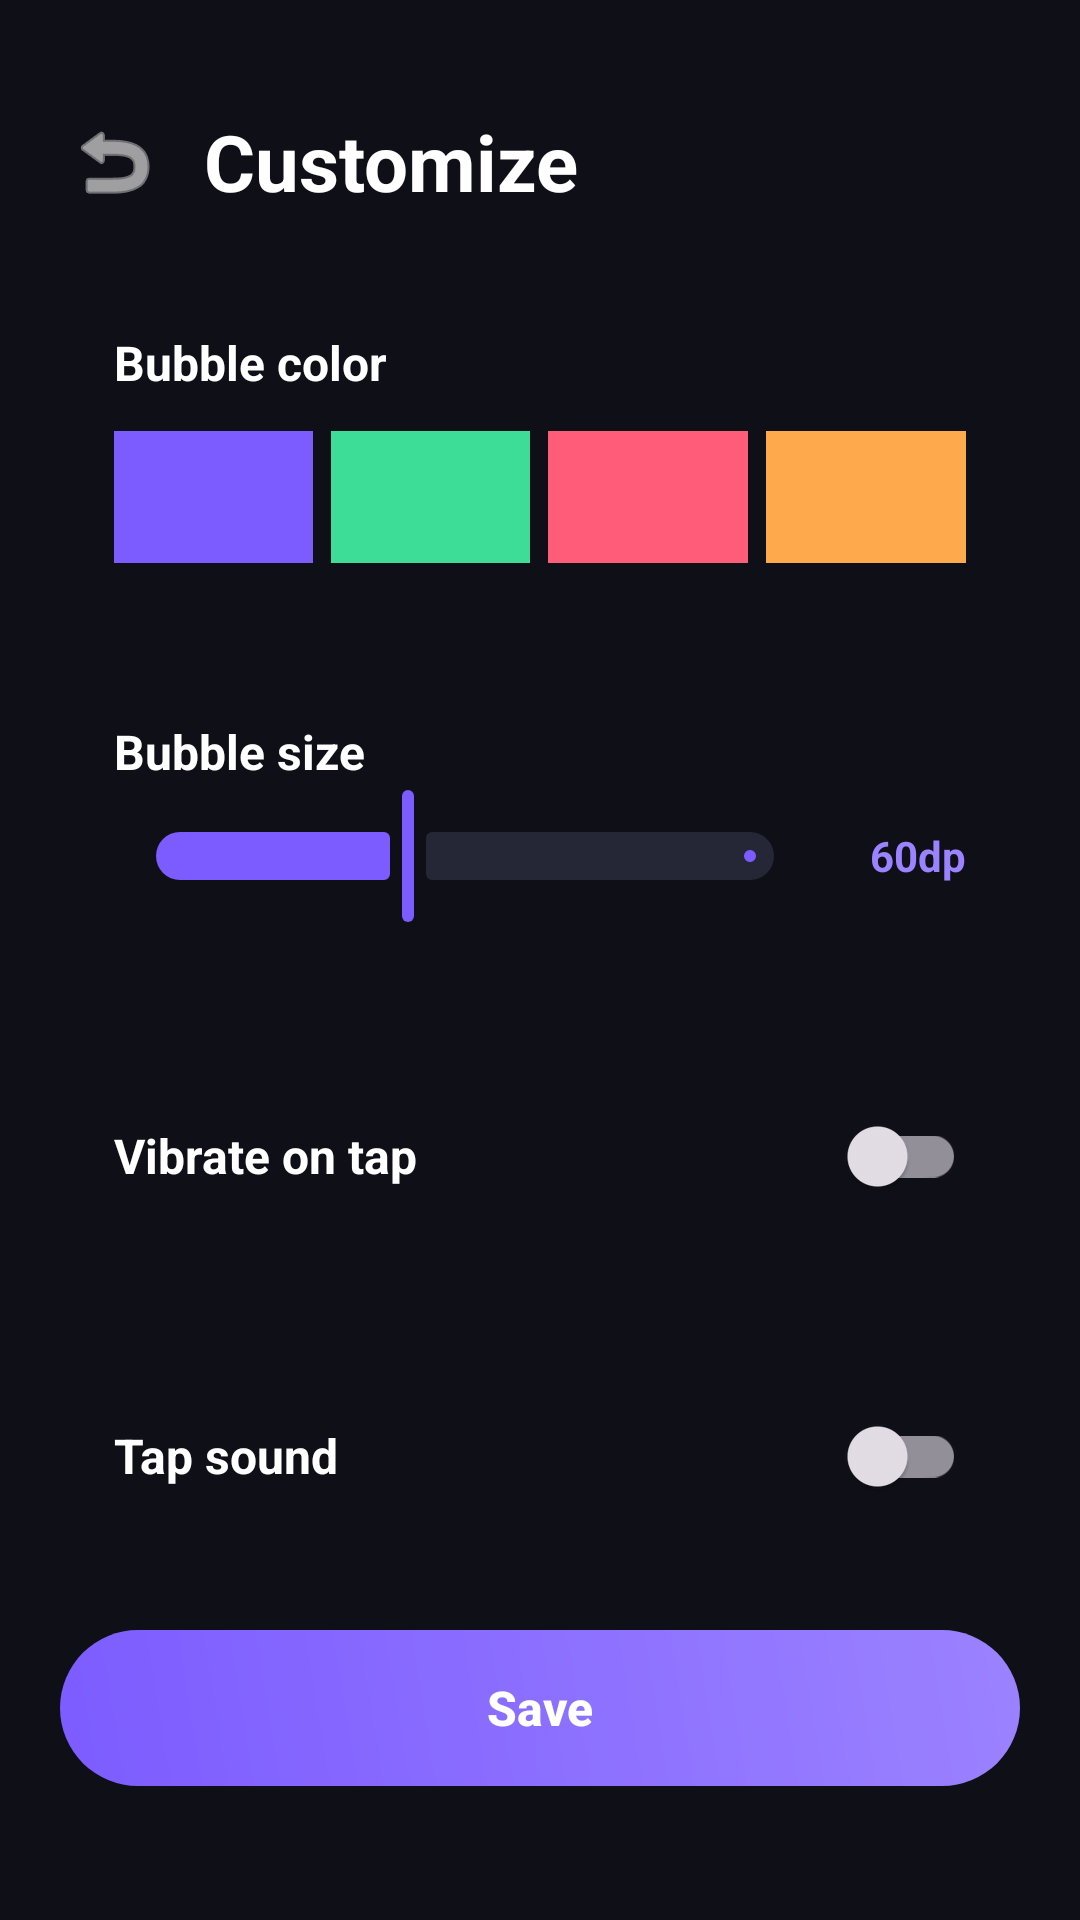

Named icons in this screenshot (1080px x 1920px) and their bounding boxes, (x1, y1, x2, y2):
revert: (81, 131, 150, 194)
